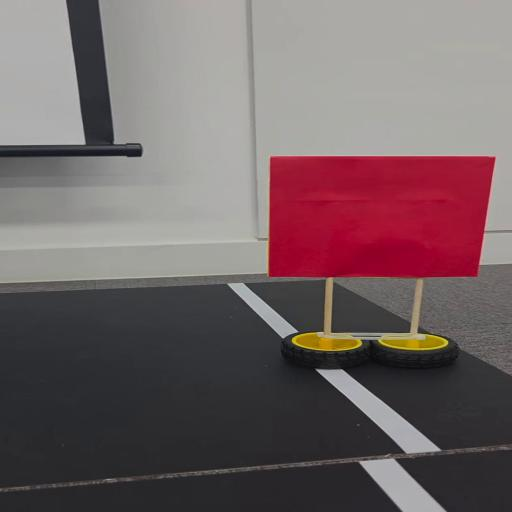Sign_A: (256, 156, 511, 372)
